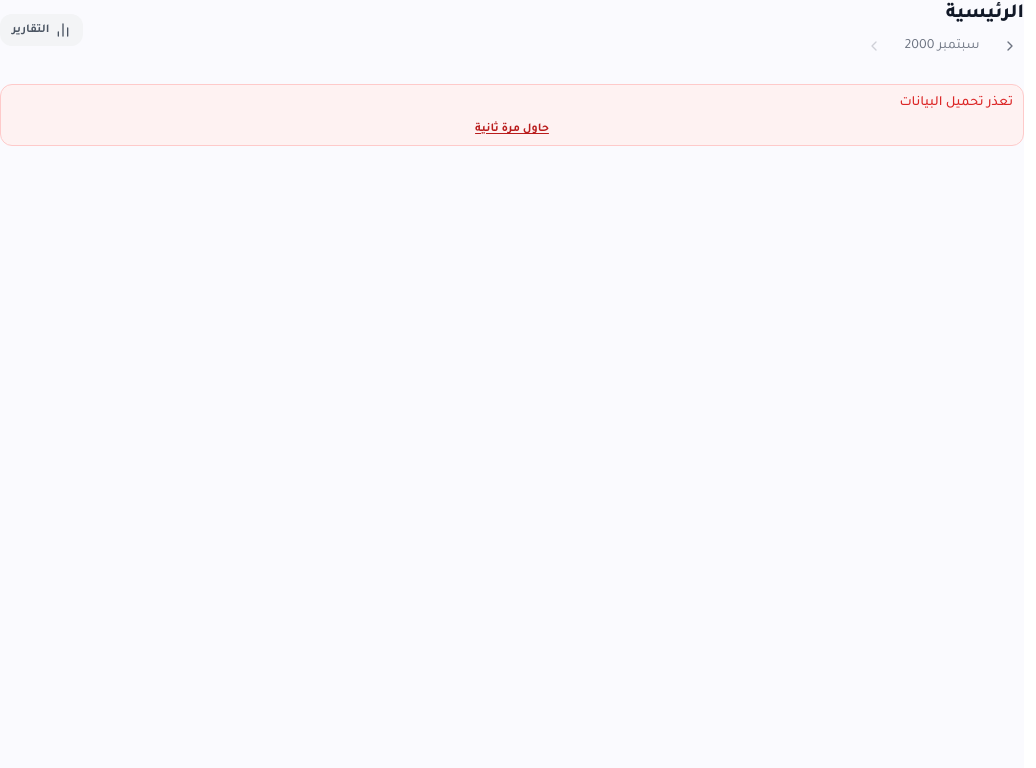
Test case: صفحة الرئيسية (Dashboard) › حالة الخطأ › يعيد جلب البيانات عند الضغط على إعادة المحاولة
Click the button "حاول مرة ثانية": (512, 129) [11,121,1013,137]
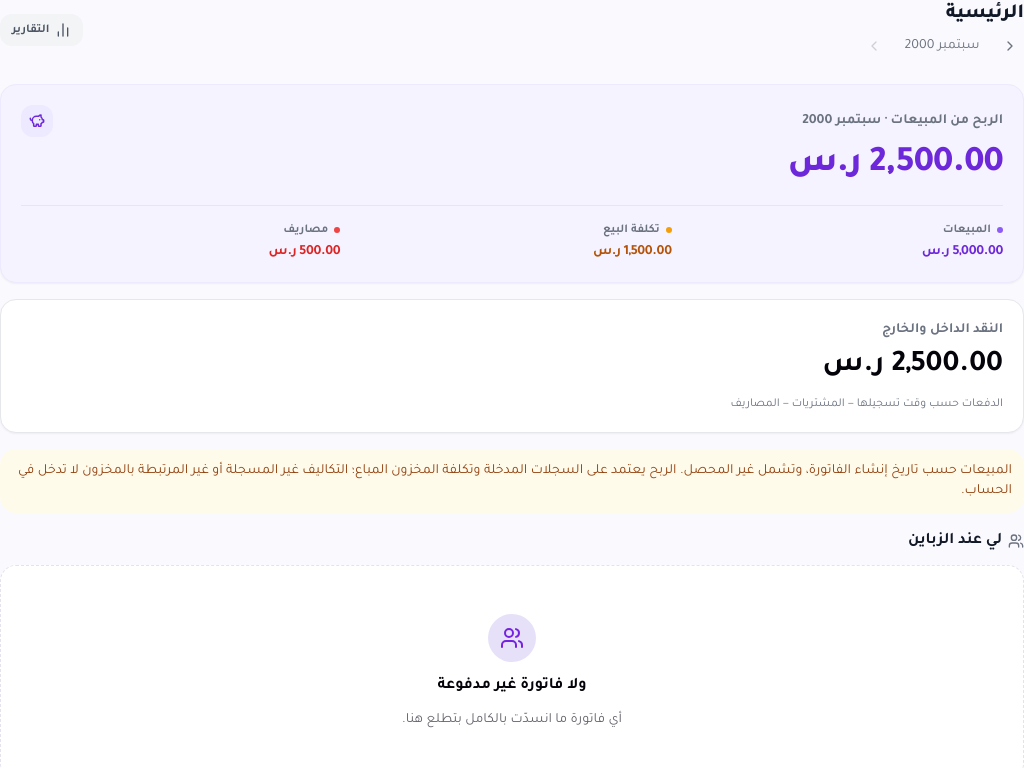
Expected: the text "المبيعات" is shown, [943,224,1003,236]
